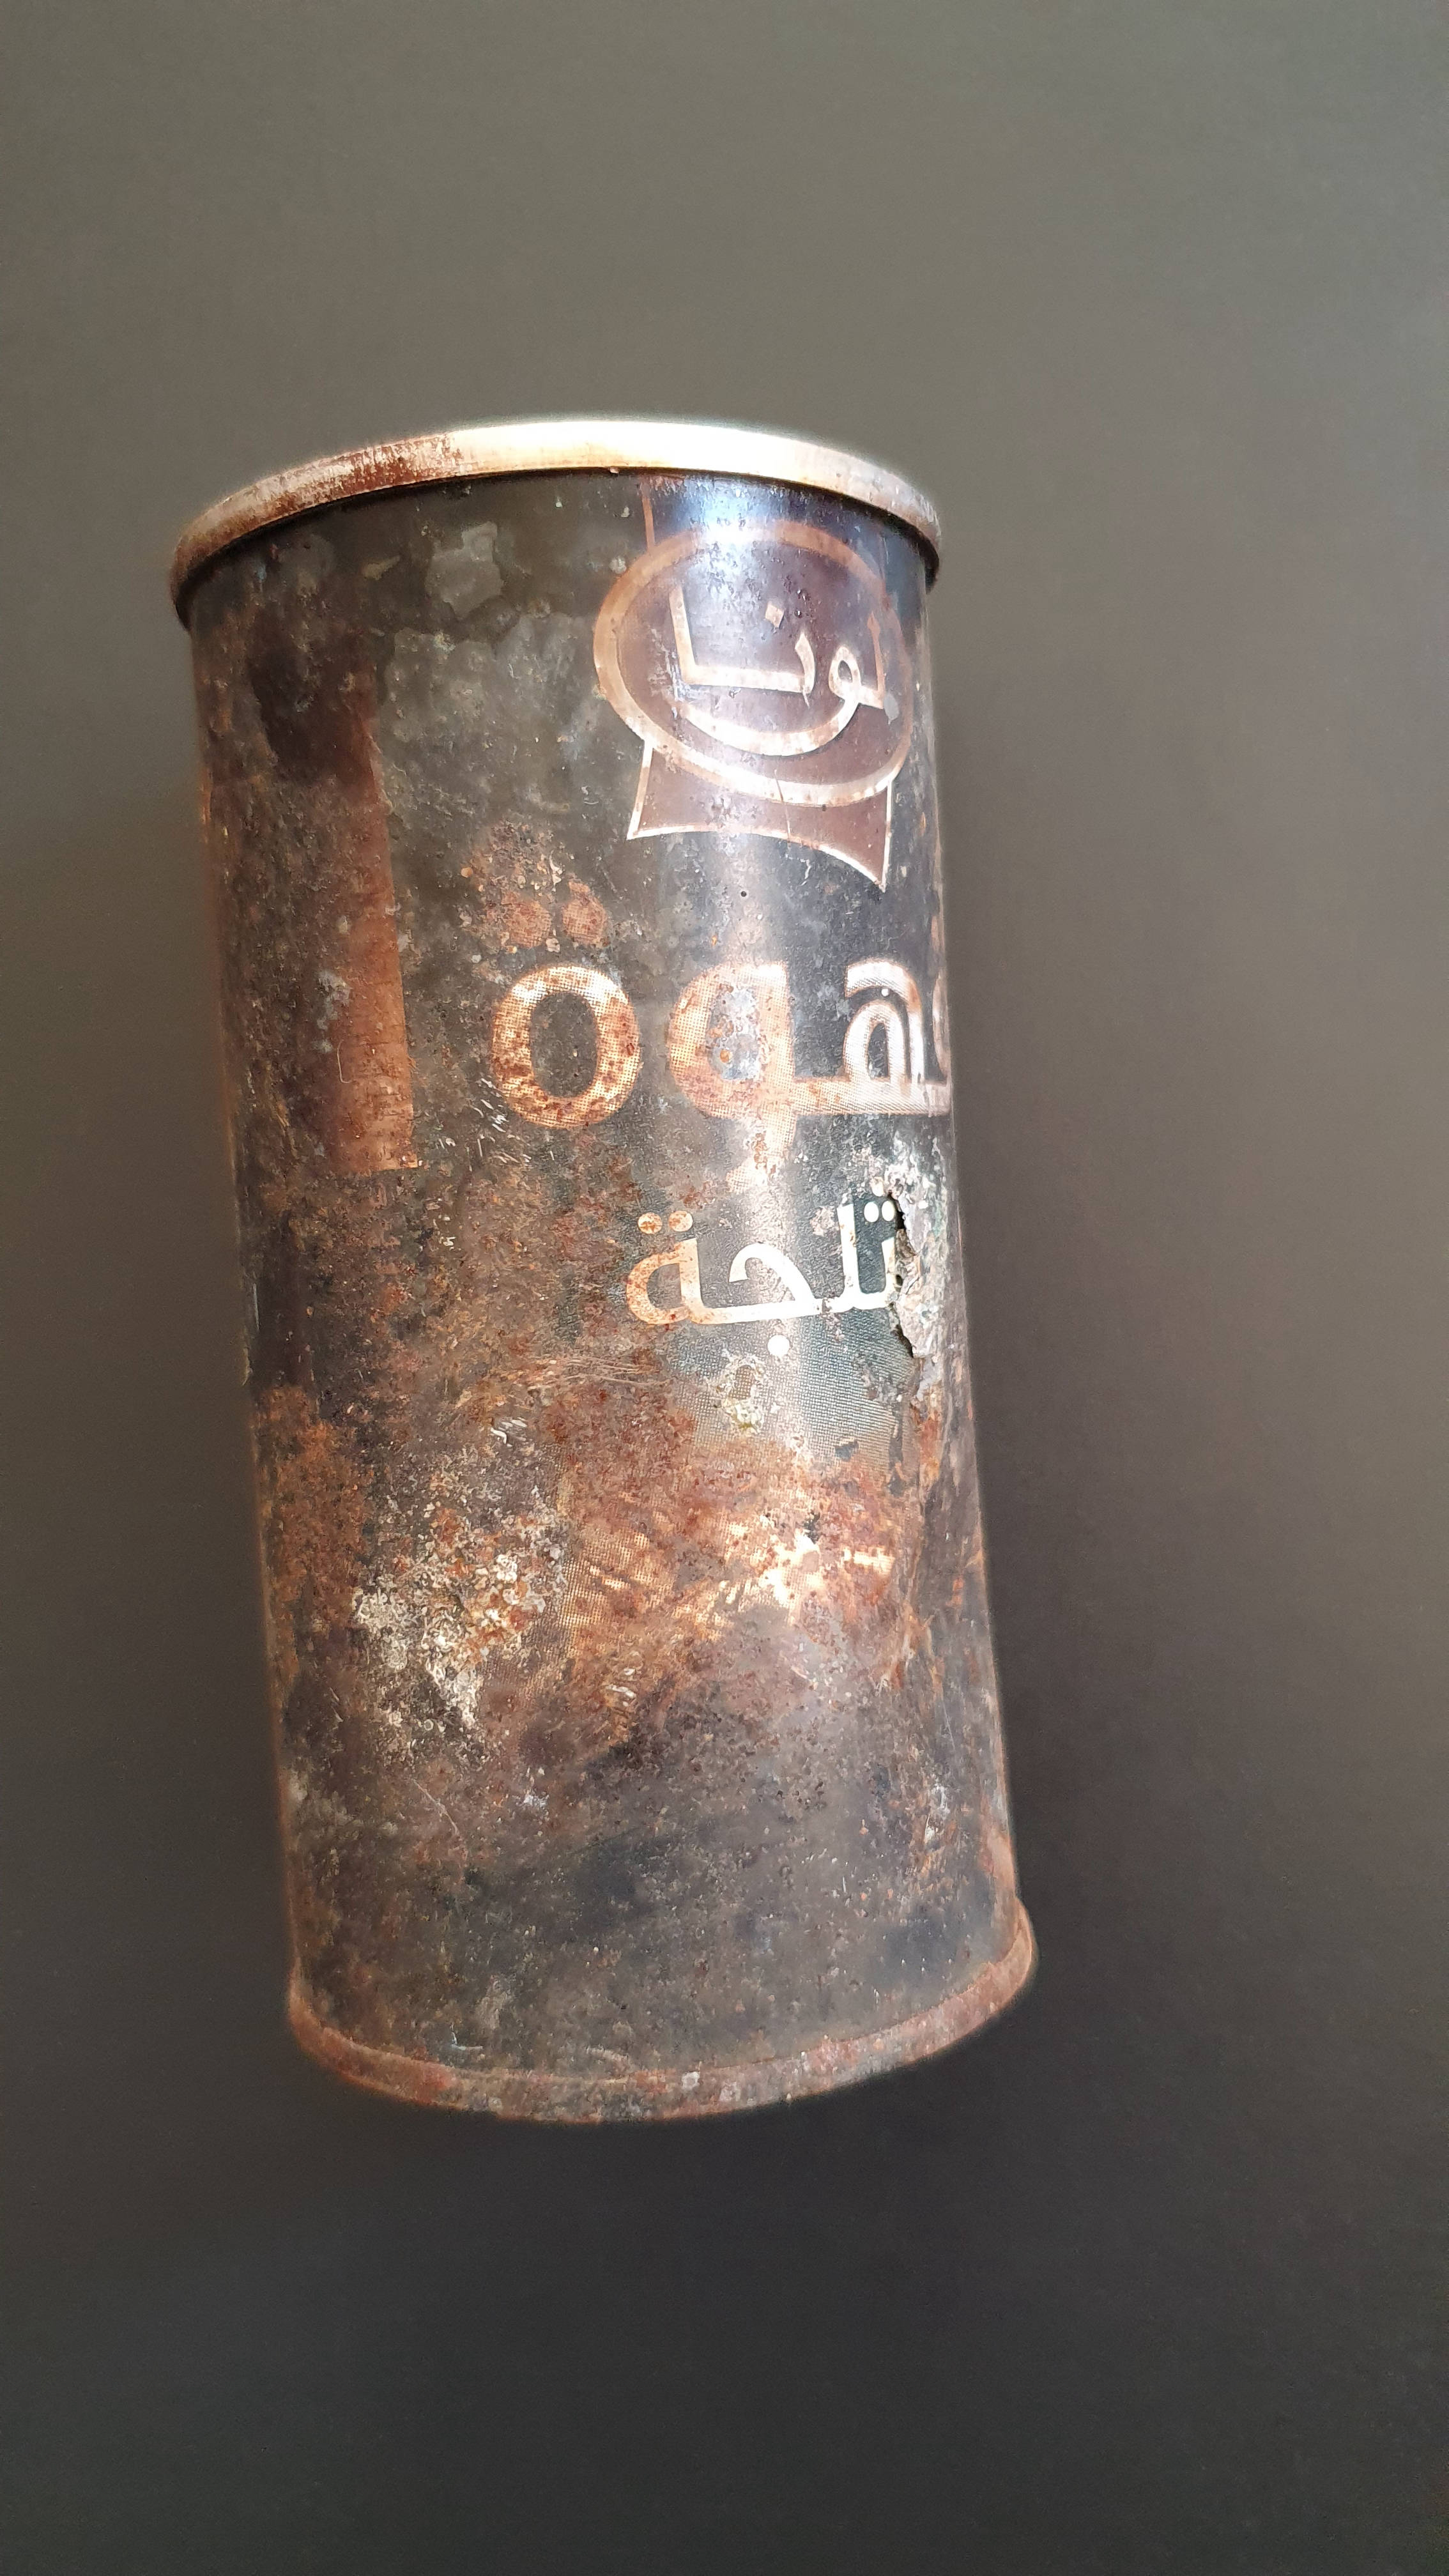metal: (127, 377, 1065, 2176)
